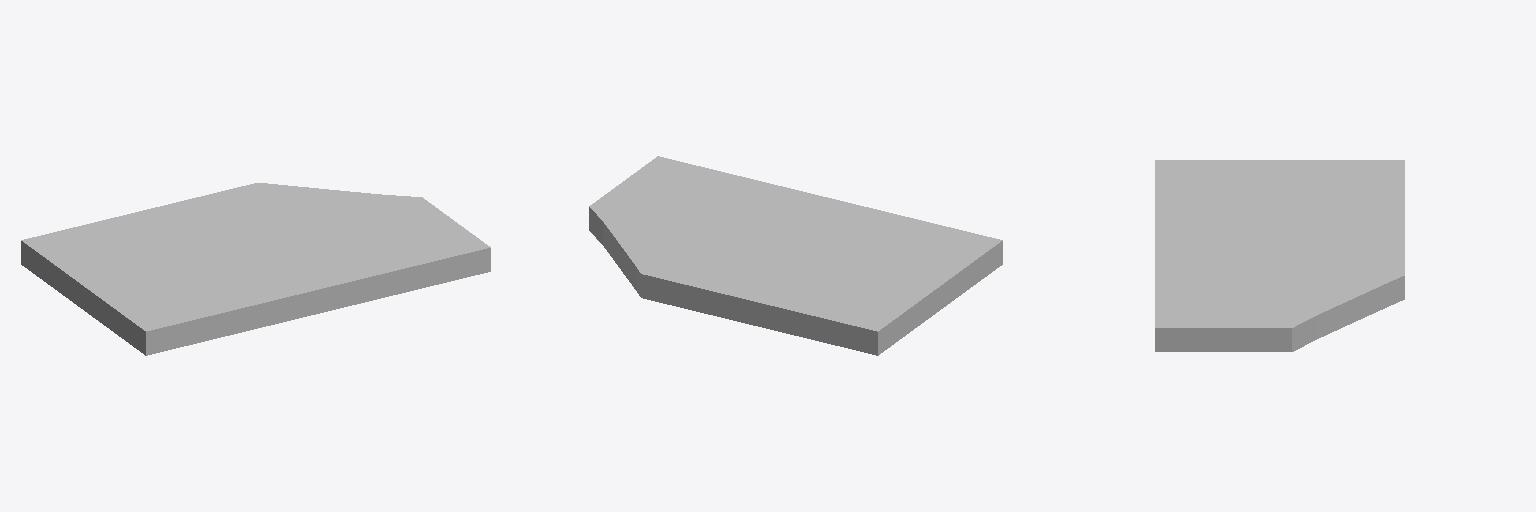
Rendered from sdcard.obj.
3 renders of one model, left to right at view 1: azimuth 30°, elevation 25°; view 2: azimuth 150°, elevation 25°; view 3: azimuth 270°, elevation 25°, orthographic.
Size of the model in its own units: 6.58 by 0.4398 by 4.12.